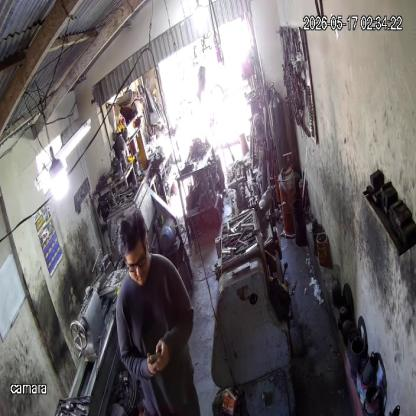lentes: (123, 250, 148, 275)
